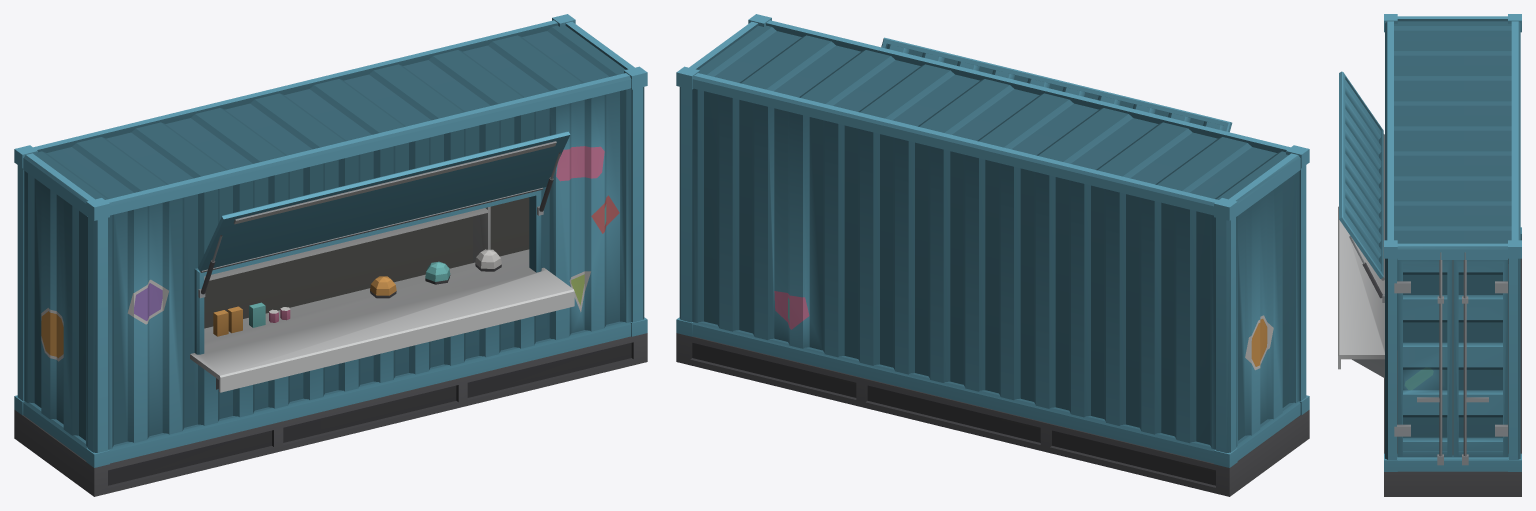
The model's file is snack.glb.
3 views of the same model, side by side, from view 1: azimuth 30°, elevation 25°; view 2: azimuth 150°, elevation 25°; view 3: azimuth 270°, elevation 25° (orthographic). The views are drawn at different scales.
Parts seen in each view (by area): view 1: snack; view 2: snack; view 3: snack.
Boxes of the visible parts, left/top/right/bottom form: snack: left=14, top=14, right=647, bottom=496; snack: left=676, top=14, right=1309, bottom=496; snack: left=1338, top=14, right=1521, bottom=496.
Size of the model in its own units: 7.2 by 3.6 by 2.4.
